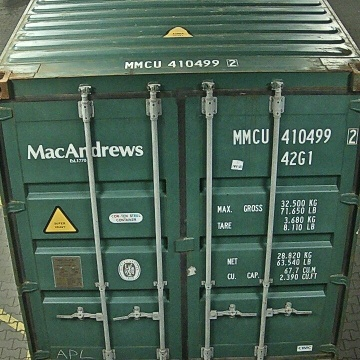serial_id: (233, 128, 357, 143)
